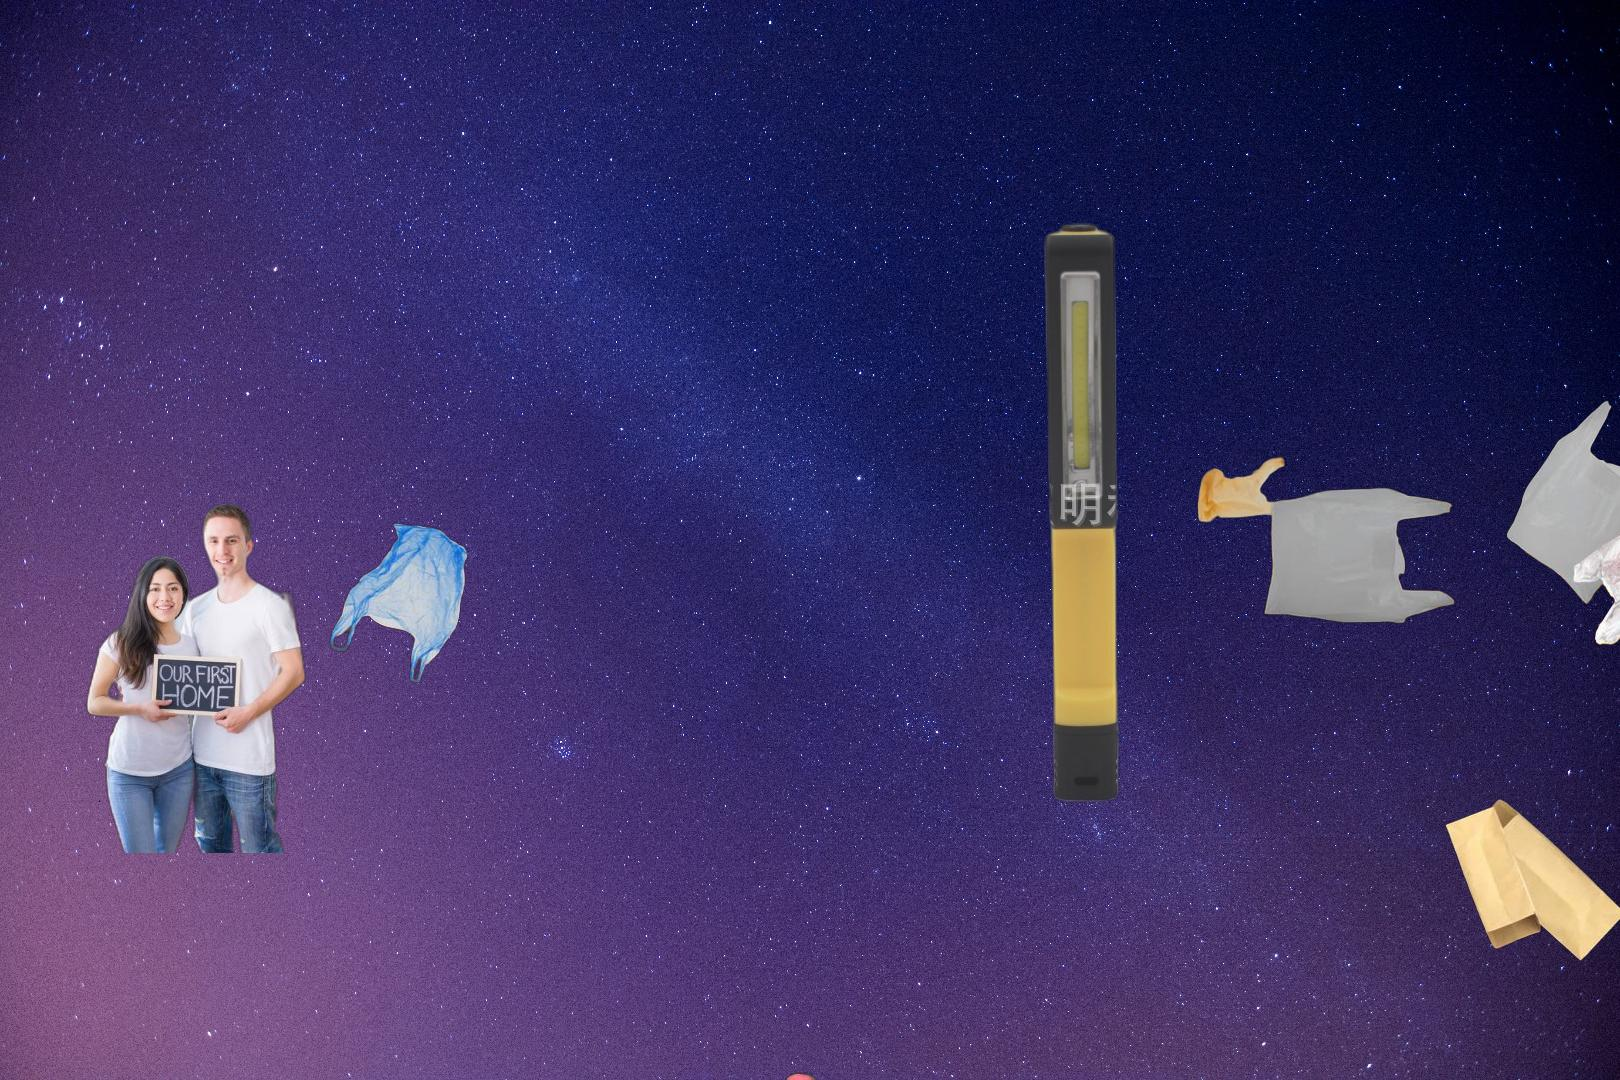biological: (711, 1033, 934, 1080)
paper-bag: (1442, 797, 1620, 964)
penholder: (1038, 216, 1126, 809)
plastic-bag: (1196, 451, 1458, 626), (1505, 399, 1620, 648), (327, 522, 471, 686)
trashbox-cardboard: (81, 500, 311, 853)
